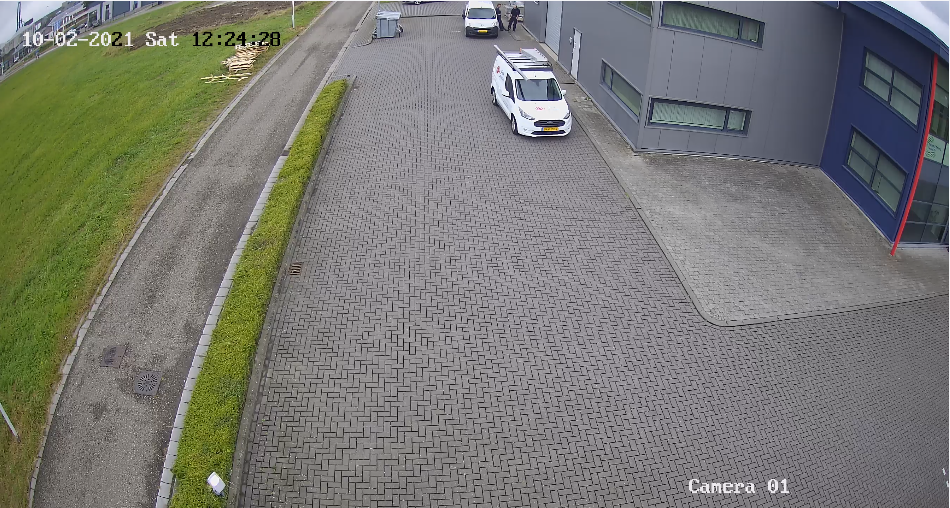werkbus: (485, 41, 576, 159), (459, 1, 504, 44)
